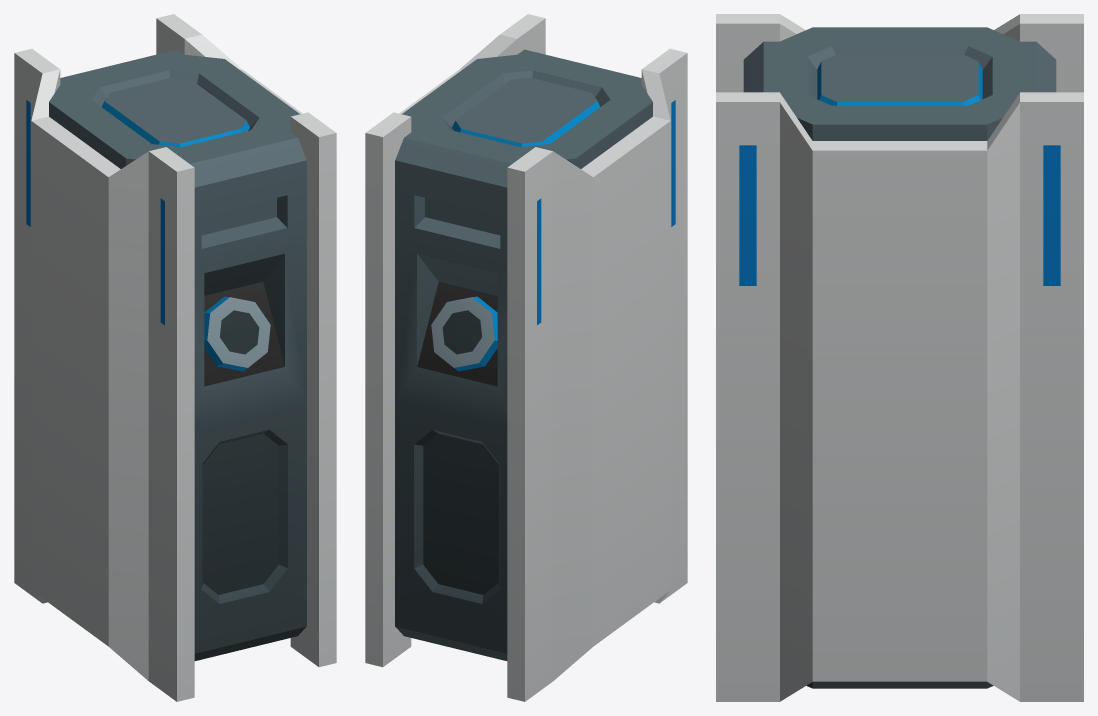
Rendered from Battery_002.fbx.
3 views of the same model, side by side, from view 1: azimuth 30°, elevation 25°; view 2: azimuth 150°, elevation 25°; view 3: azimuth 270°, elevation 25° (orthographic). The views are drawn at different scales.
Visible parts, largest first — view 1: Battery_002; view 2: Battery_002; view 3: Battery_002.
Boxes of the visible parts, <box> form: Battery_002: <box>14,14,336,701</box>; Battery_002: <box>365,14,687,701</box>; Battery_002: <box>716,14,1083,701</box>.
Size of the model in its own units: 37.49 by 49.99 by 89.99.
